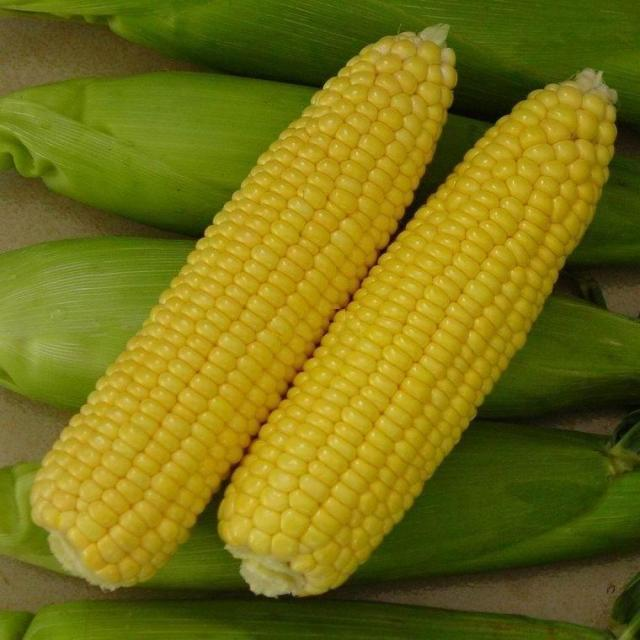corn: (29, 12, 467, 603), (203, 73, 640, 607)
